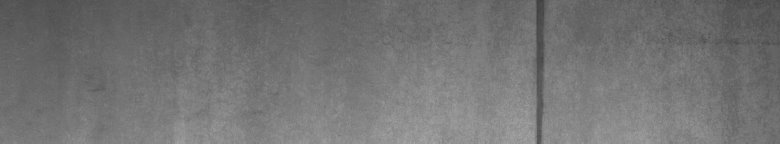hd: (529, 4, 548, 136)
